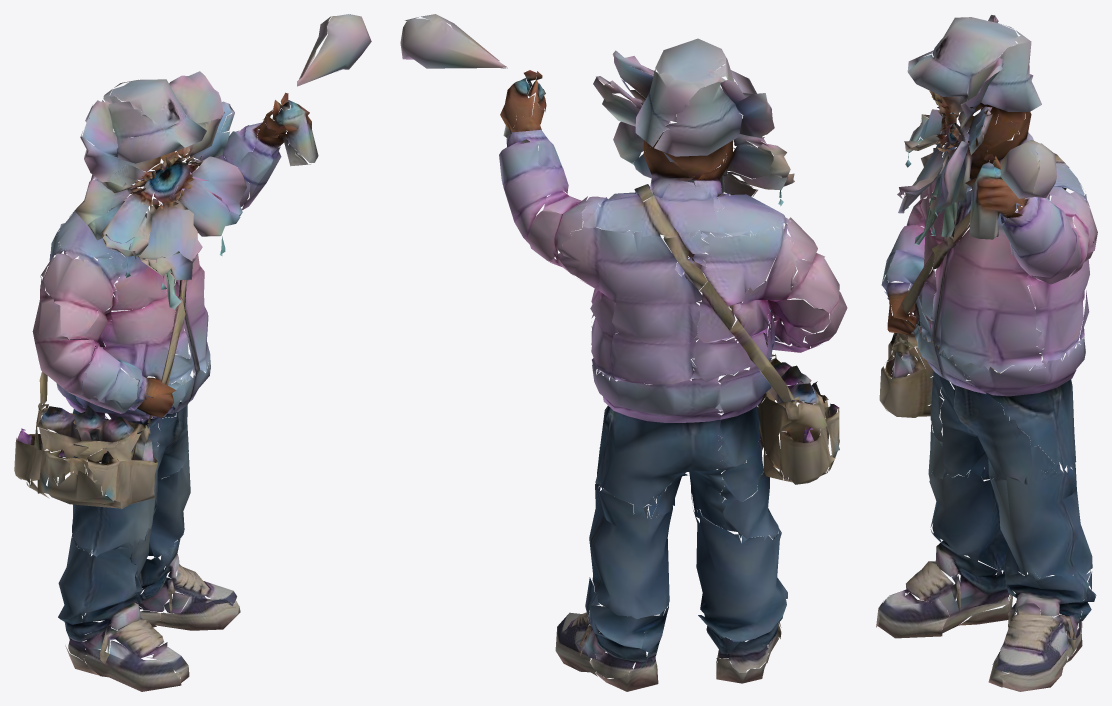
The model's file is crowd_writer_full.glb.
3 renders of one model, left to right at view 1: azimuth 30°, elevation 25°; view 2: azimuth 150°, elevation 25°; view 3: azimuth 270°, elevation 25°, orthographic. The views are drawn at different scales.
Parts seen in each view (by area): view 1: tripo_node_a171b73f-355f-4e3c-badd-fdc2f2bb58a7; view 2: tripo_node_a171b73f-355f-4e3c-badd-fdc2f2bb58a7; view 3: tripo_node_a171b73f-355f-4e3c-badd-fdc2f2bb58a7.
Boxes of the visible parts, x1,y1,x2,y2 form: tripo_node_a171b73f-355f-4e3c-badd-fdc2f2bb58a7: (14,14,371,691); tripo_node_a171b73f-355f-4e3c-badd-fdc2f2bb58a7: (400,14,847,691); tripo_node_a171b73f-355f-4e3c-badd-fdc2f2bb58a7: (876,15,1097,691).
Bounding box in the file's own units: 0.6822 × 1 × 0.325.
1 material, 1 textured.
